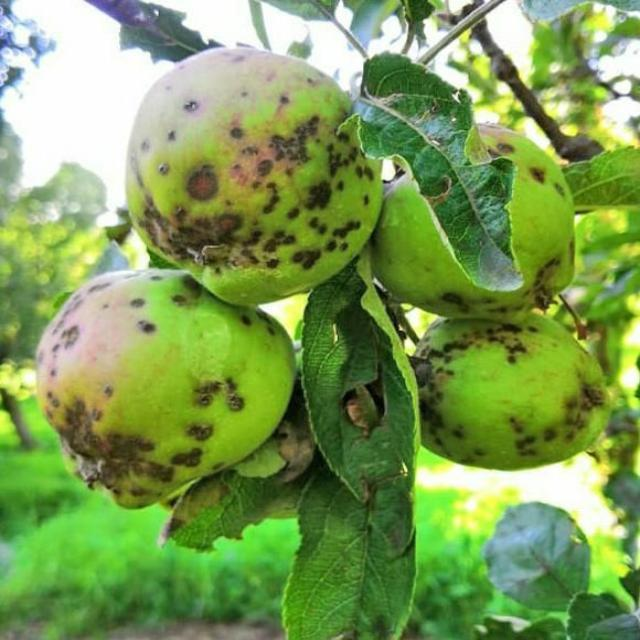Rotten Apple: (22, 44, 354, 479), (406, 95, 614, 478)
